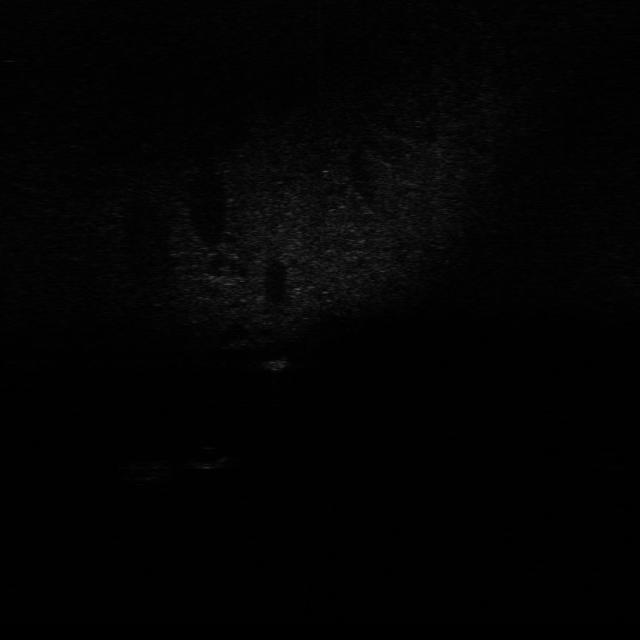ball: (188, 442, 232, 470)
circle cage: (112, 452, 177, 486)
cube: (257, 356, 292, 376)
